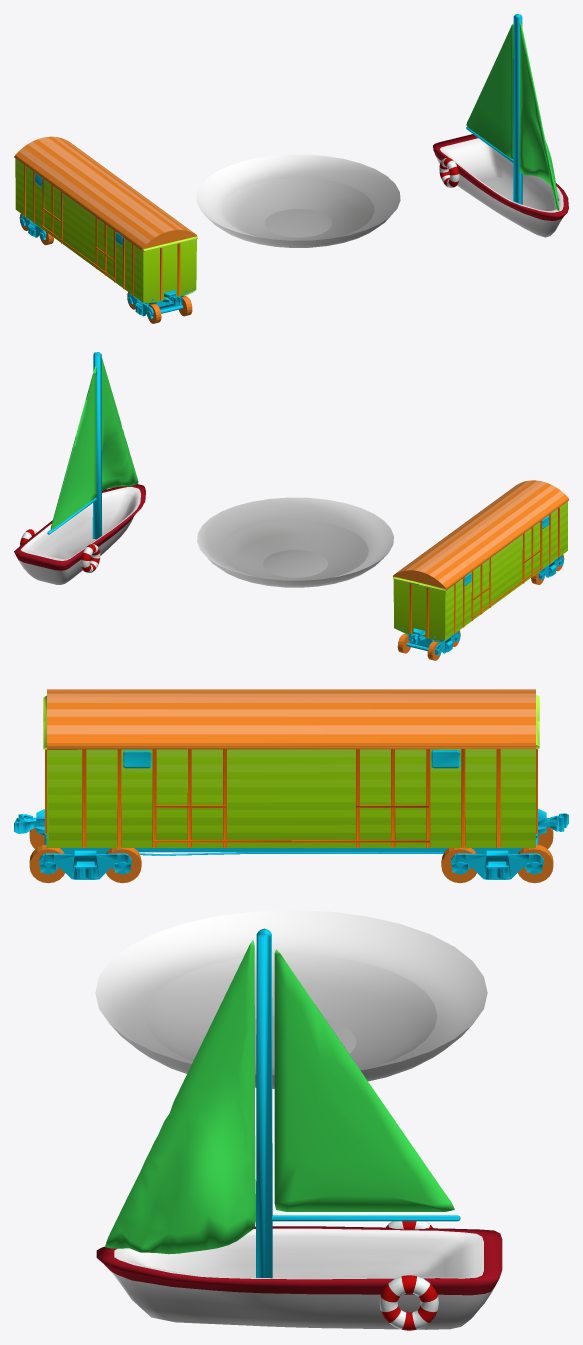
File: Items 25.fbx
3 renders of one model, top to bottom at view 1: azimuth 30°, elevation 25°; view 2: azimuth 150°, elevation 25°; view 3: azimuth 270°, elevation 25°, orthographic. The views are drawn at different scales.
Visible parts, largest first — view 1: wagon, plate, model_5; view 2: wagon, plate, model_5; view 3: model_5, wagon, plate.
Part boxes in pixels (<box>): wagon: <box>14,136,197,323</box>; plate: <box>196,154,400,247</box>; model_5: <box>433,14,568,237</box>; wagon: <box>393,480,568,660</box>; plate: <box>197,497,393,587</box>; model_5: <box>14,352,145,584</box>; model_5: <box>96,928,502,1330</box>; wagon: <box>14,689,568,883</box>; plate: <box>95,910,487,1088</box>.
Size of the model in its own units: 632 by 260 by 337.
1 material, 1 textured.
